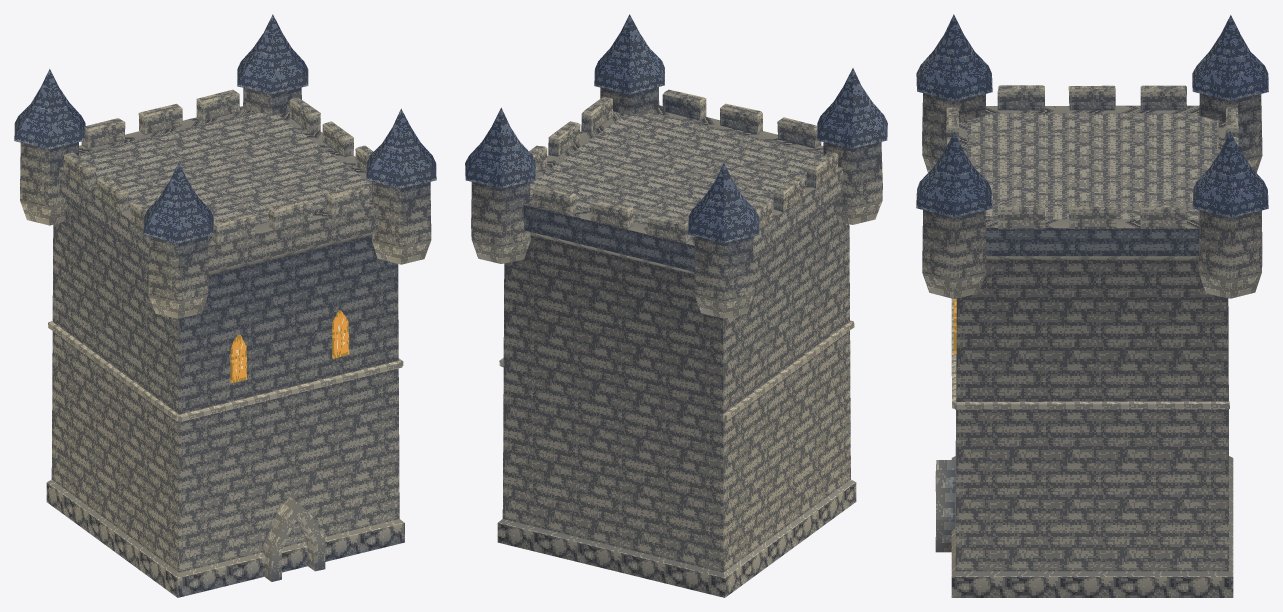
The model's file is cst.keep.glb.
The picture shows the model from 3 angles, left to right: view 1: azimuth 30°, elevation 25°; view 2: azimuth 150°, elevation 25°; view 3: azimuth 270°, elevation 25°; orthographic projection. The views are drawn at different scales.
Parts seen in each view (by area): view 1: kit_walls, kit_top, kit_detail; view 2: kit_walls, kit_top, kit_detail; view 3: kit_walls, kit_top, kit_detail.
Boxes of the visible parts, x1=… form: kit_walls: x1=46, y1=201, x2=404, y2=597; kit_top: x1=14, y1=14, x2=436, y2=318; kit_detail: x1=48, y1=310, x2=403, y2=581; kit_walls: x1=497, y1=200, x2=856, y2=597; kit_top: x1=465, y1=14, x2=887, y2=318; kit_detail: x1=499, y1=320, x2=854, y2=421; kit_walls: x1=951, y1=259, x2=1233, y2=597; kit_top: x1=916, y1=14, x2=1268, y2=298; kit_detail: x1=935, y1=298, x2=1229, y2=552.
Bounding box in the file's own units: 13.33 × 18.81 × 12.9.
Materials: 6 (6 with a texture image).
